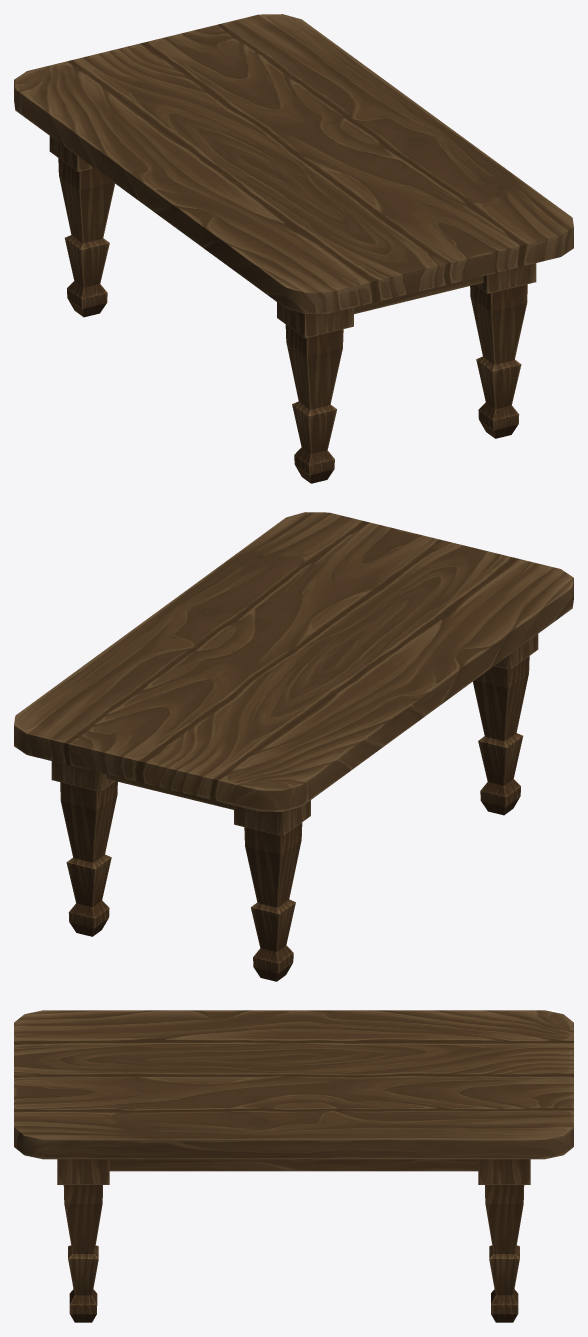
File: Table.FBX
The picture shows the model from 3 angles, top to bottom: view 1: azimuth 30°, elevation 25°; view 2: azimuth 150°, elevation 25°; view 3: azimuth 270°, elevation 25°; orthographic projection. The views are drawn at different scales.
Visible parts, largest first — view 1: Table; view 2: Table; view 3: Table.
Part boxes in pixels (left/top/right/bottom): Table: left=14, top=14, right=573, bottom=483; Table: left=14, top=512, right=573, bottom=981; Table: left=14, top=1010, right=573, bottom=1322.
Size of the model in its own units: 1223 by 893 by 2234.
